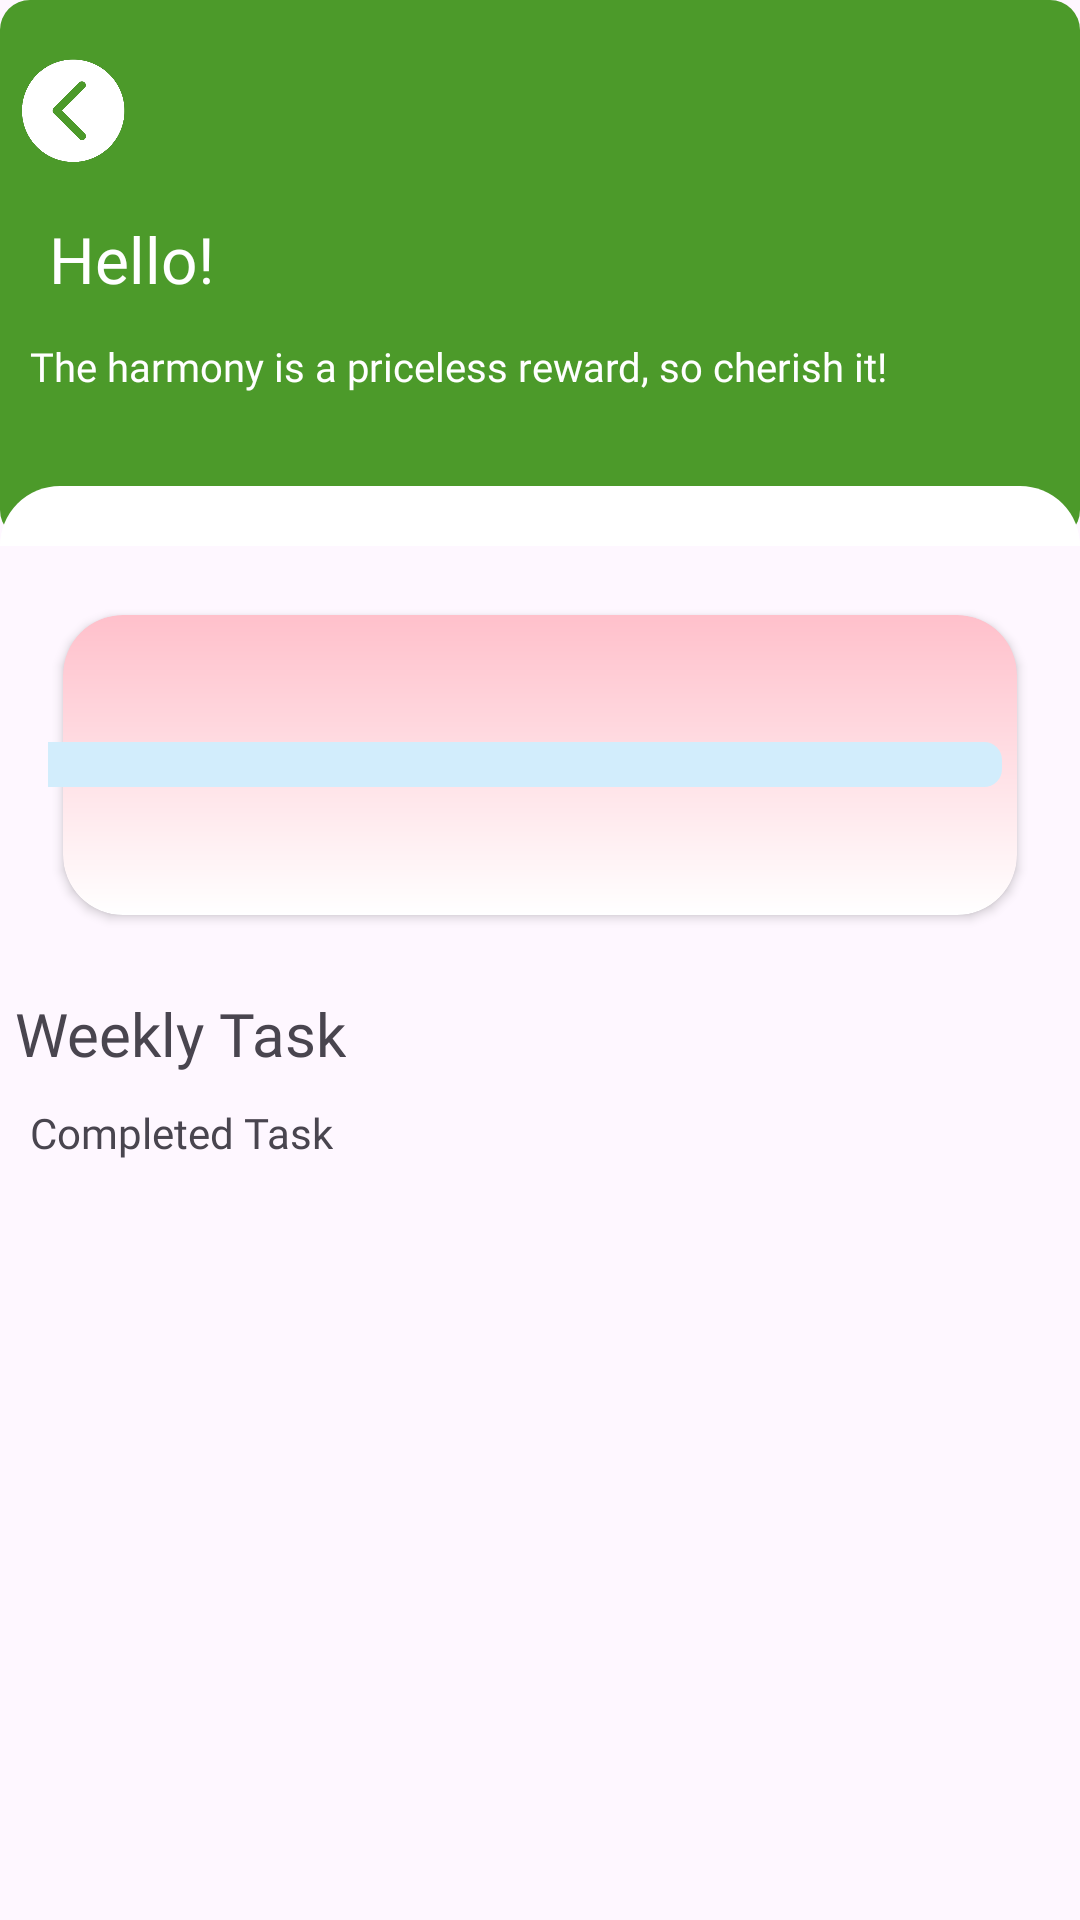

Screen size 1080px×1920px. Icon name, then its center in pixels as (x=x, y=y):
Back Button: (x=73, y=110)
